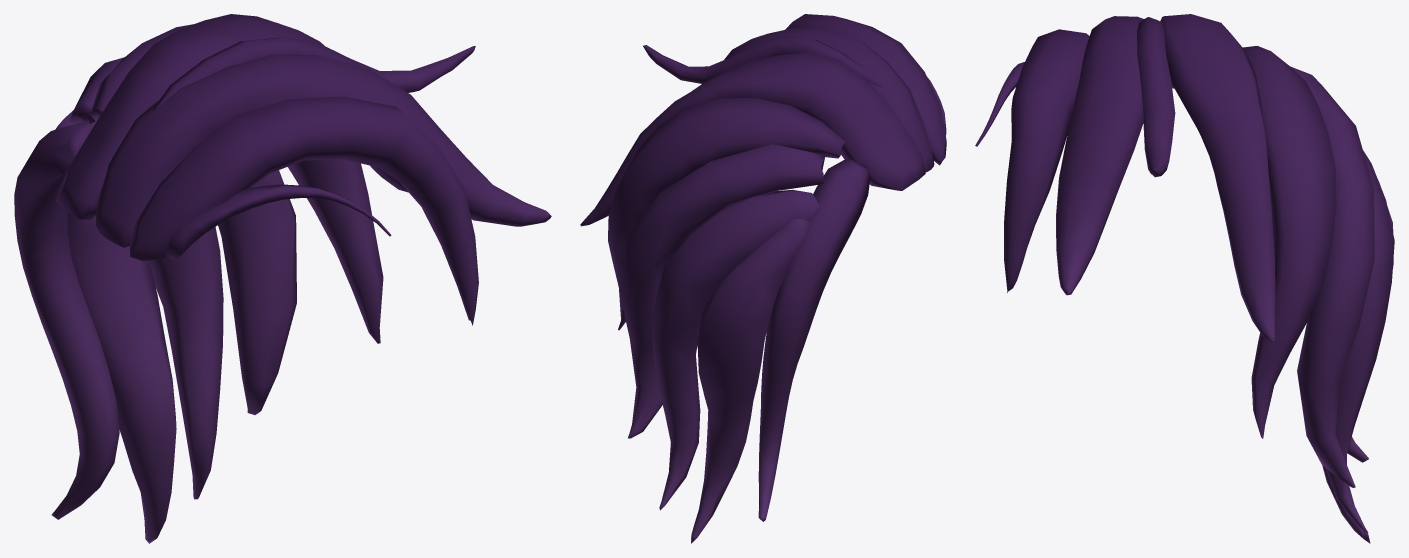
File: hair3.fbx
The picture shows the model from 3 angles, left to right: view 1: azimuth 30°, elevation 25°; view 2: azimuth 150°, elevation 25°; view 3: azimuth 270°, elevation 25°; orthographic projection. The views are drawn at different scales.
Visible parts, largest first — view 1: hair_3; view 2: hair_3; view 3: hair_3.
Part boxes in pixels (<box>): hair_3: <box>14,14,551,543</box>; hair_3: <box>580,14,946,543</box>; hair_3: <box>975,14,1394,543</box>.
Bounding box in the file's own units: 2.05 × 2.85 × 2.15.
